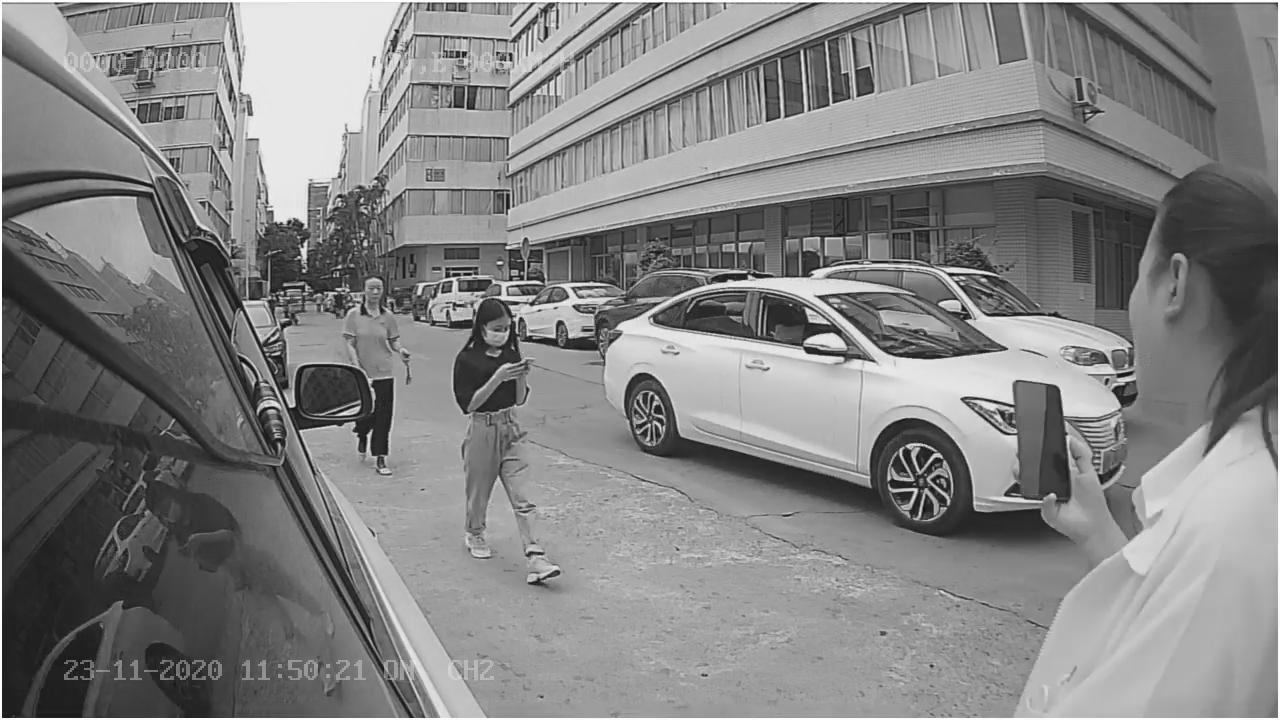person: (453, 300, 563, 584)
